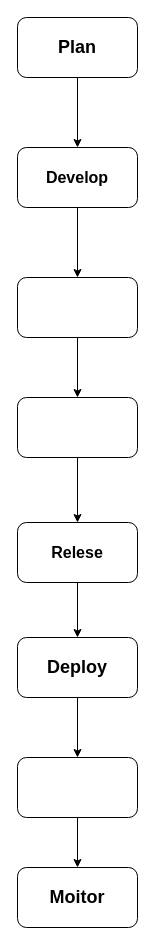
Some shapes in this 155 by 945 pixel diagram are drawn without their labels. The shapes that lost their labels are listed below. From the top down, each one's centre as x and y in pixels, then its label:
the point at 77,307: Build
the point at 77,427: Test
the point at 77,787: Operate
